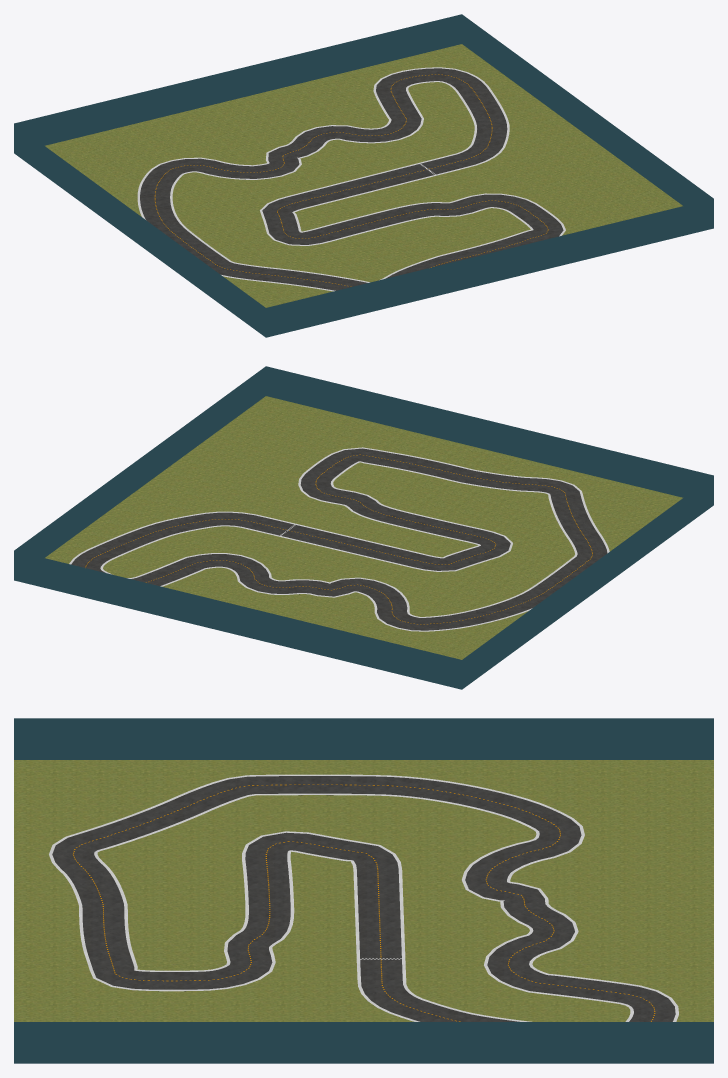
Rendered from thunder_hill_pro_cw.dae.
3 renders of one model, top to bottom at view 1: azimuth 30°, elevation 25°; view 2: azimuth 150°, elevation 25°; view 3: azimuth 270°, elevation 25°, orthographic. The views are drawn at different scales.
Visible parts, largest first — view 1: field, wall, road, il, ol, cl; view 2: field, wall, road, il, ol, cl; view 3: field, wall, road, ol, il, cl.
Part boxes in pixels (x1,y1,x2,y2): field: (45,44,682,307); wall: (14,14,713,337); road: (140,68,563,290); il: (170,81,533,282); ol: (137,67,565,291); cl: (154,74,548,286); field: (45,396,682,659); wall: (14,366,713,689); road: (71,448,607,631); il: (100,461,577,617); ol: (69,447,609,631); cl: (85,454,592,624); field: (14,760,713,1021); wall: (14,718,713,1063); road: (52,776,675,1021); ol: (49,774,678,1021); il: (94,793,633,1021); cl: (73,784,655,1021).
Bounding box in the file's own units: 15.73 × 15.32 × 1.
Materials: 7 (7 with a texture image).
